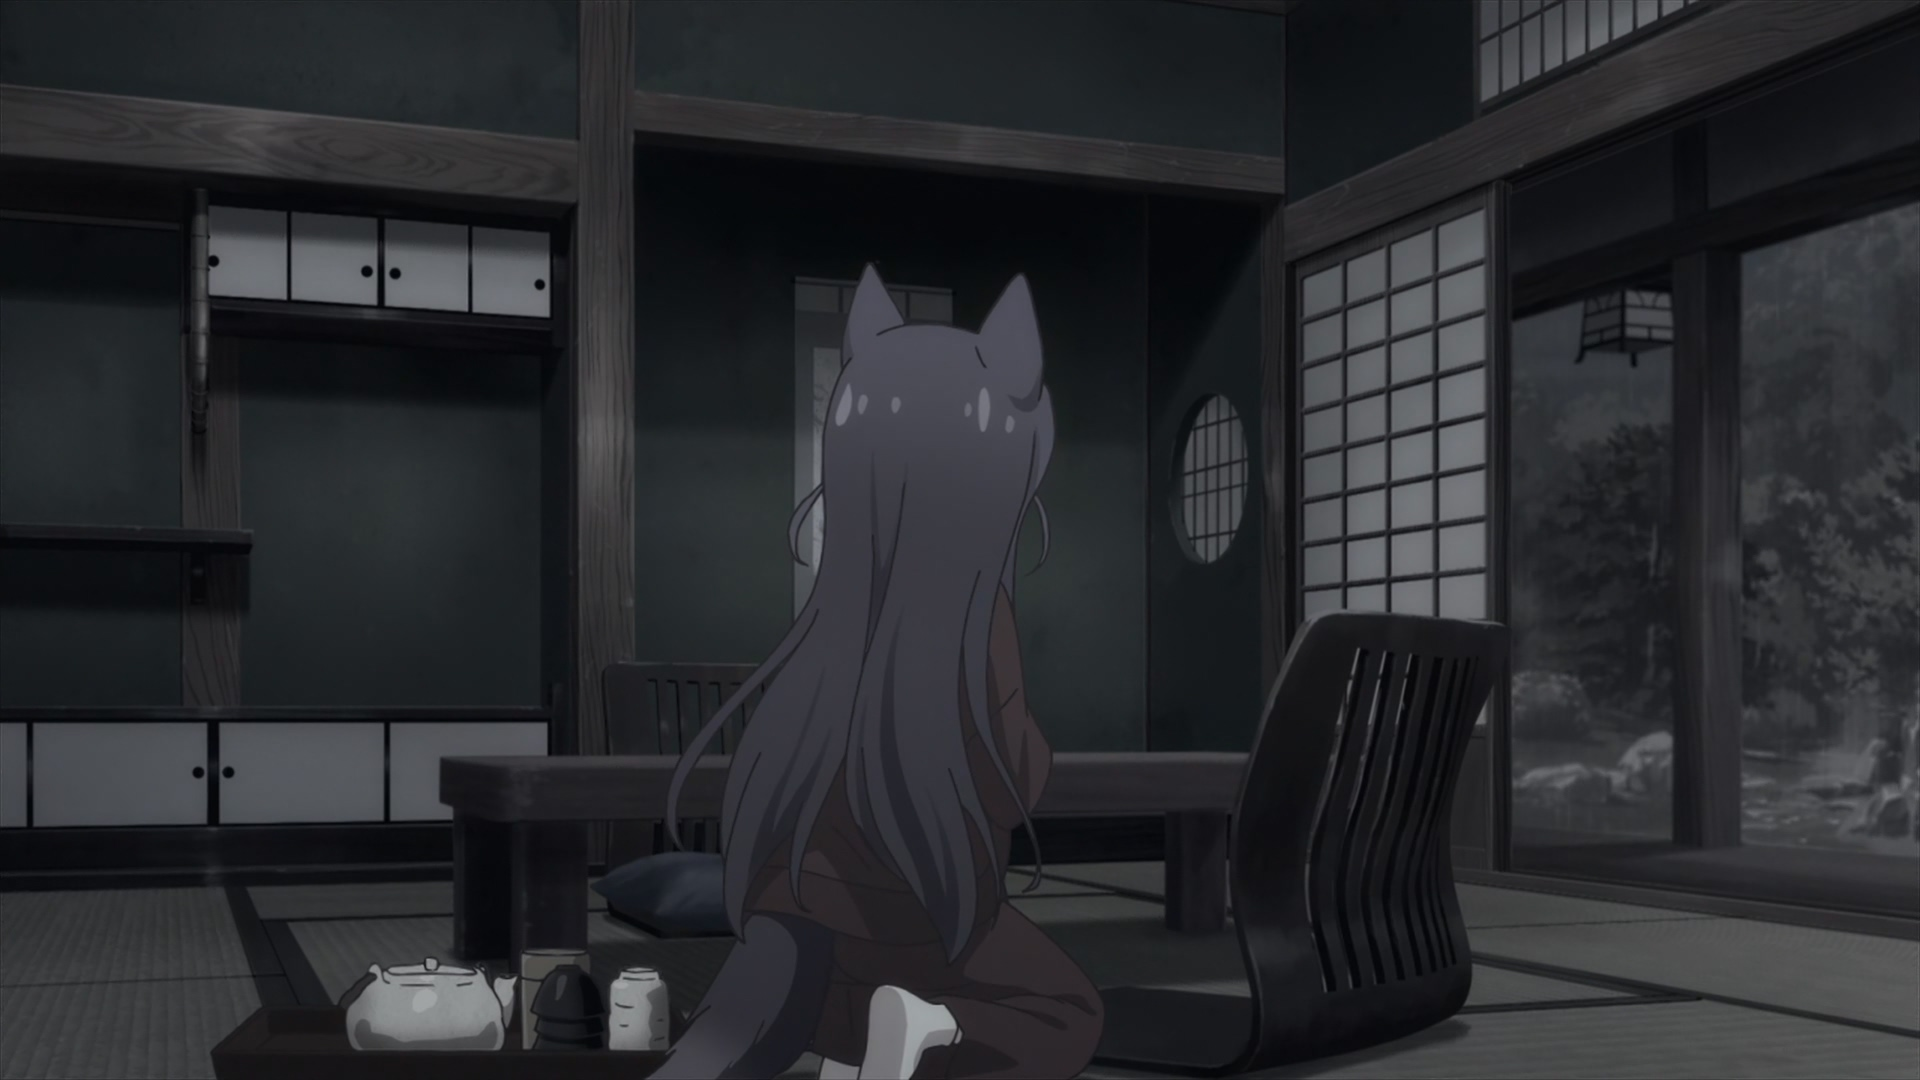皋: (650, 260, 1104, 1080)
